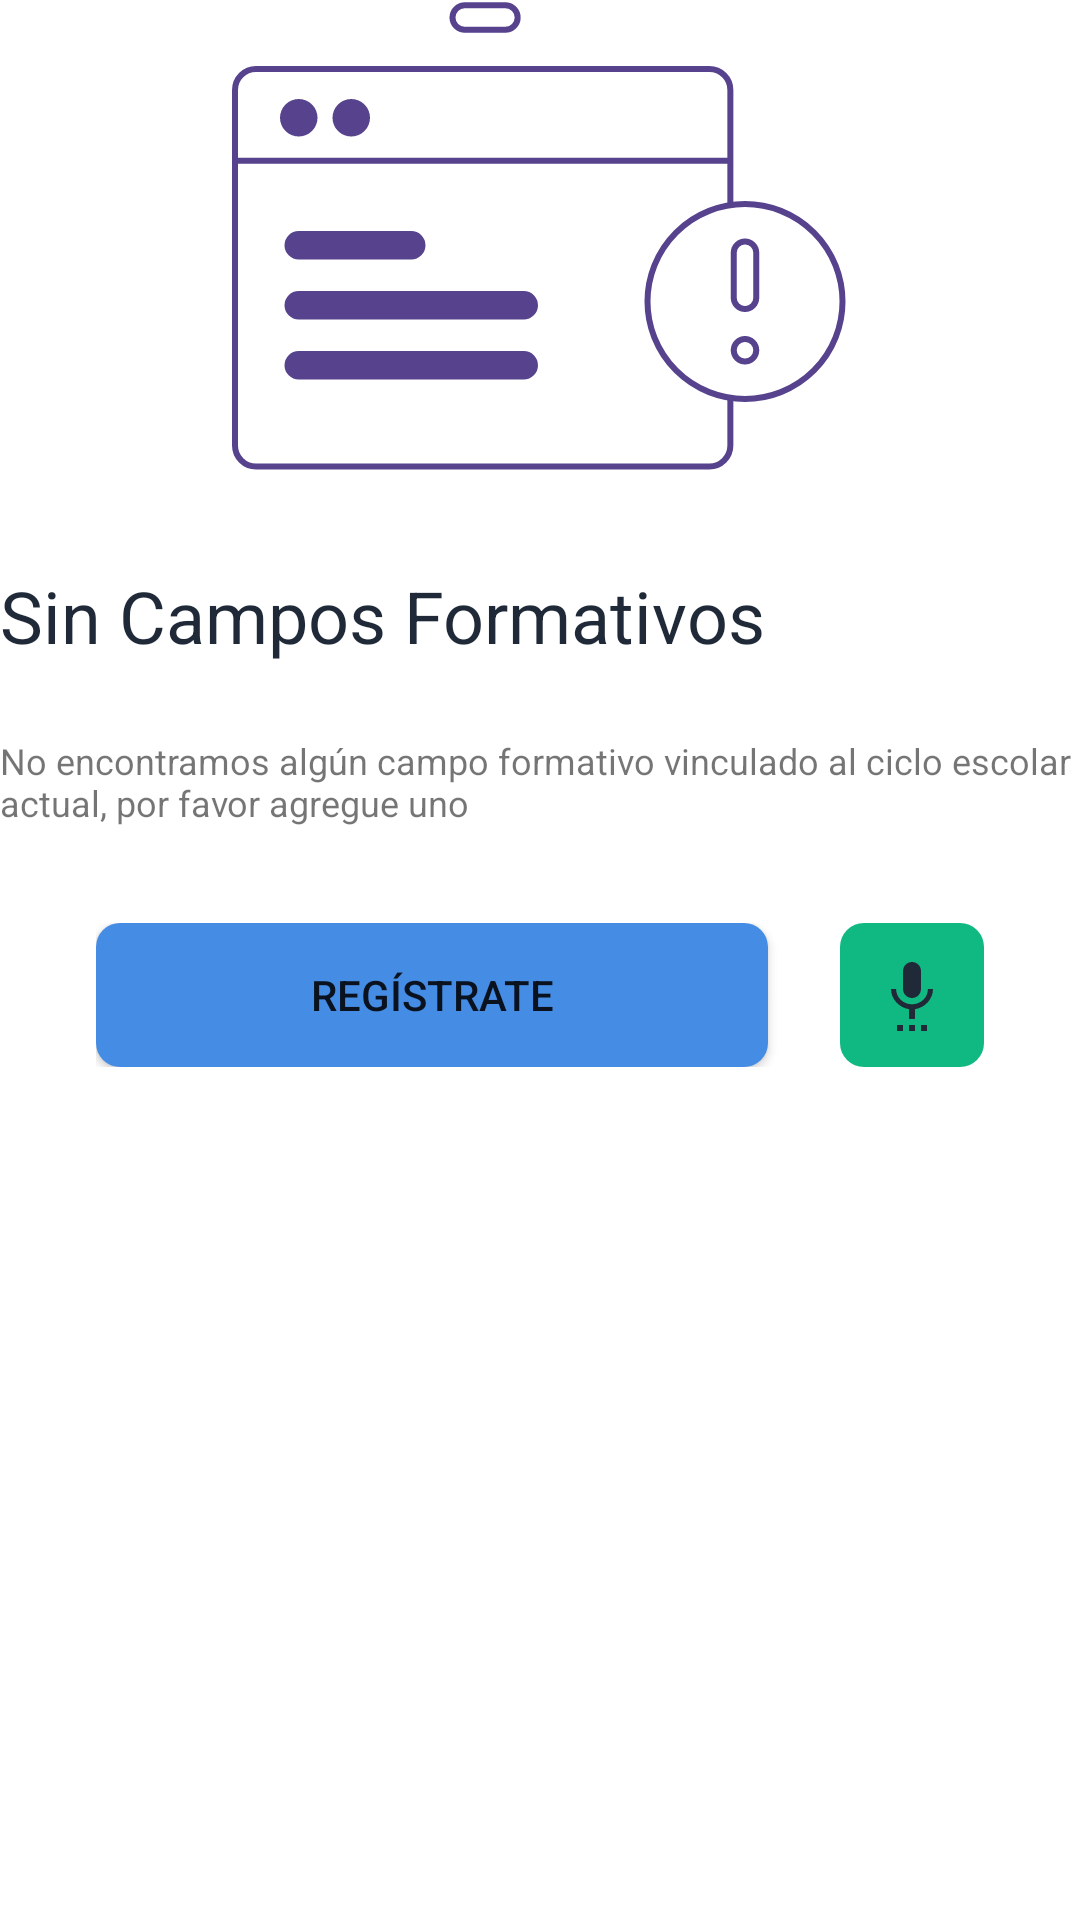

Icons on this 1080x1920 Android screen, each with the point to tap as (x,y):
voice: (912,995)
